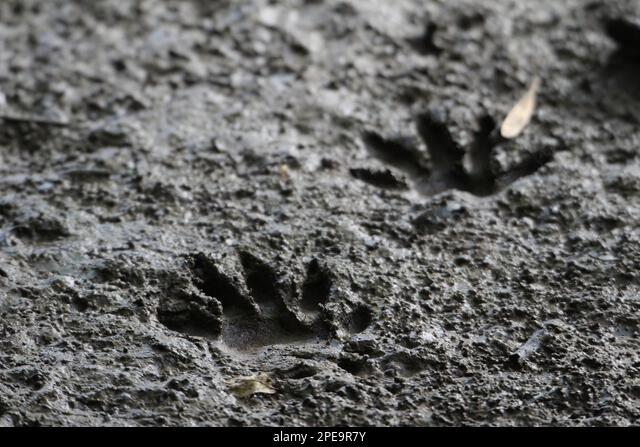raccoon: (145, 223, 388, 381)
